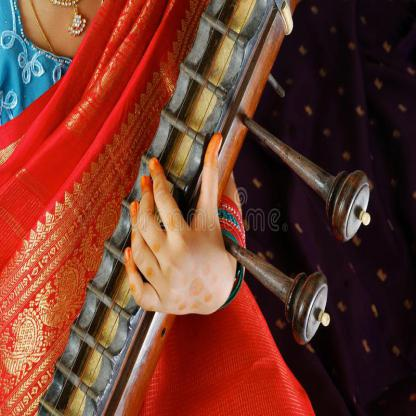Veena: (76, 1, 294, 413)
